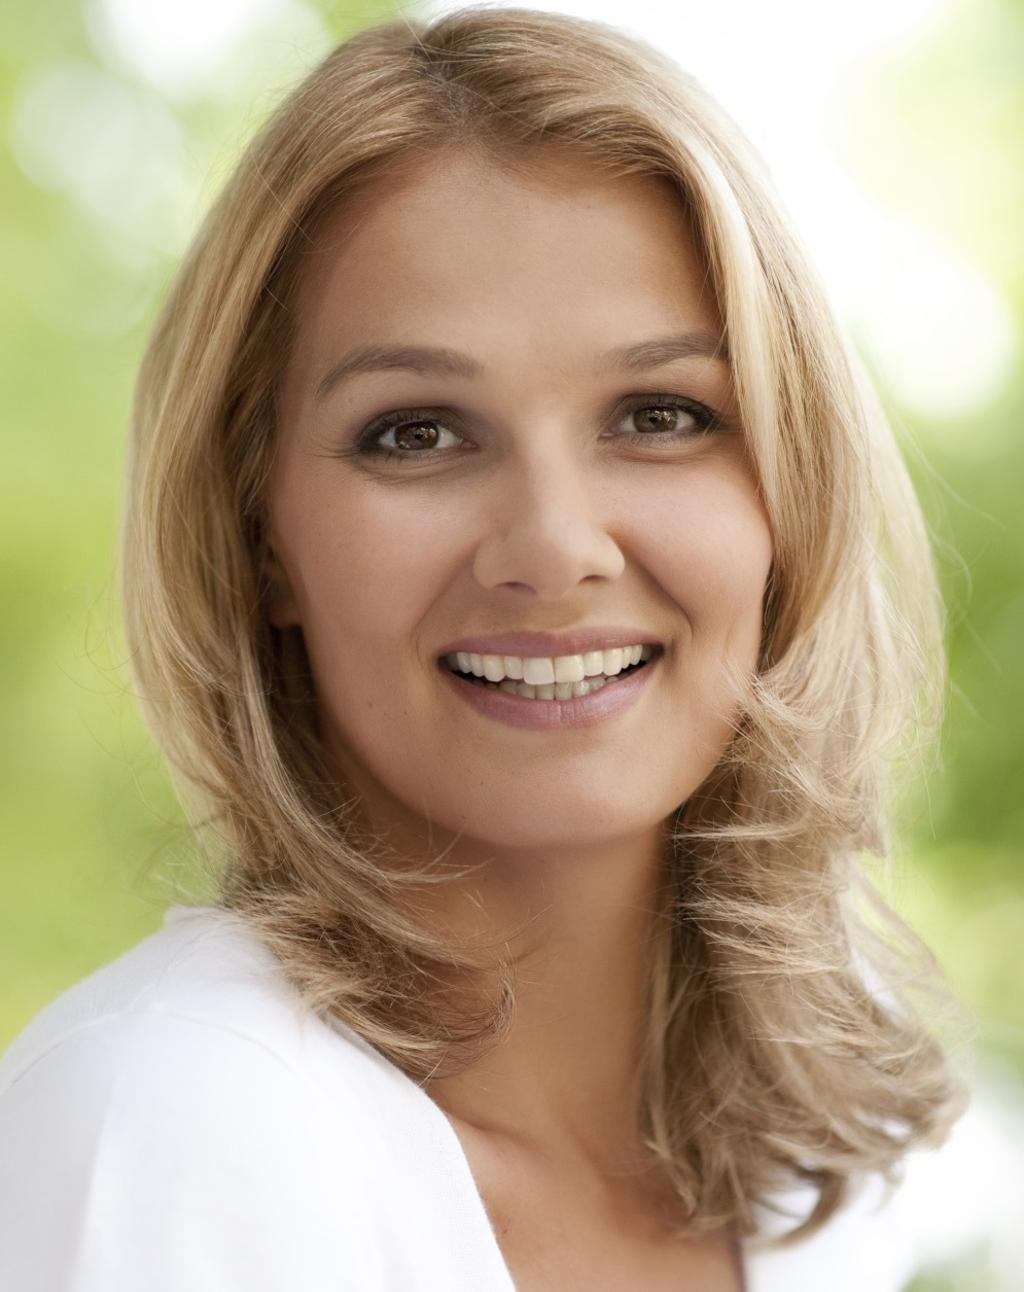face: (280, 166, 779, 852)
